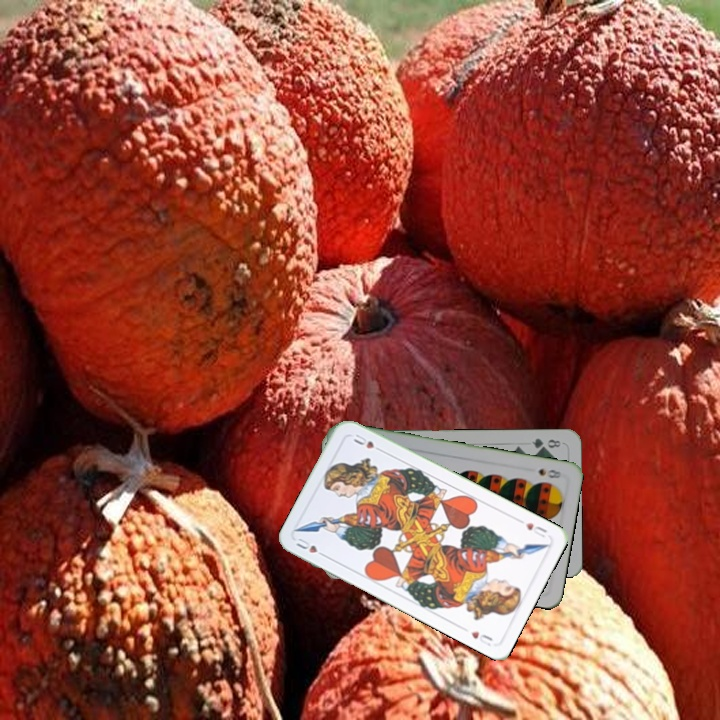G8: (528, 434, 563, 452)
HU: (292, 534, 329, 560), (521, 518, 549, 541)
S8: (534, 464, 564, 481)
